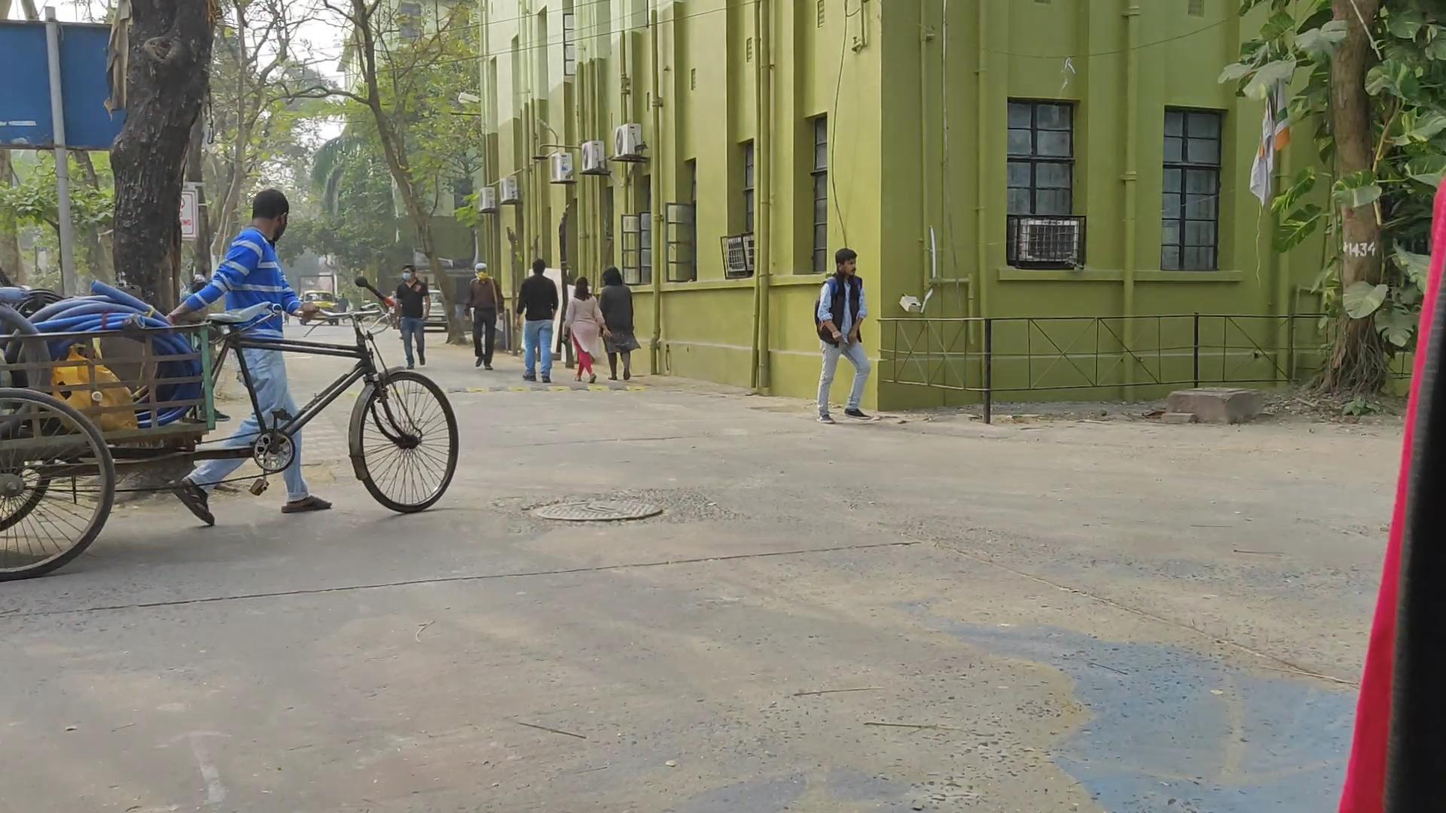car: (299, 290, 339, 327)
